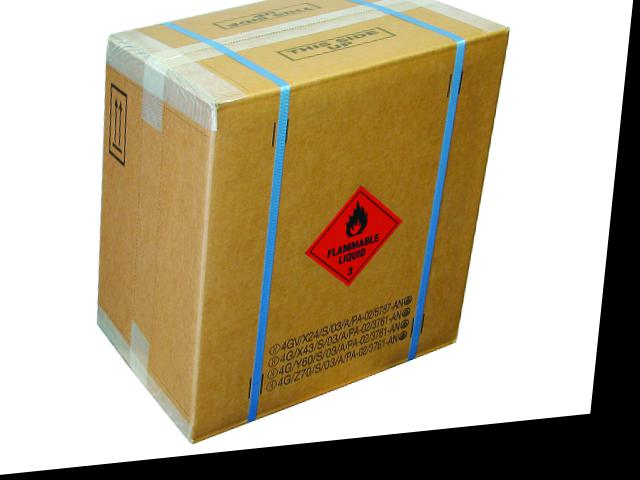package: (96, 0, 510, 443)
